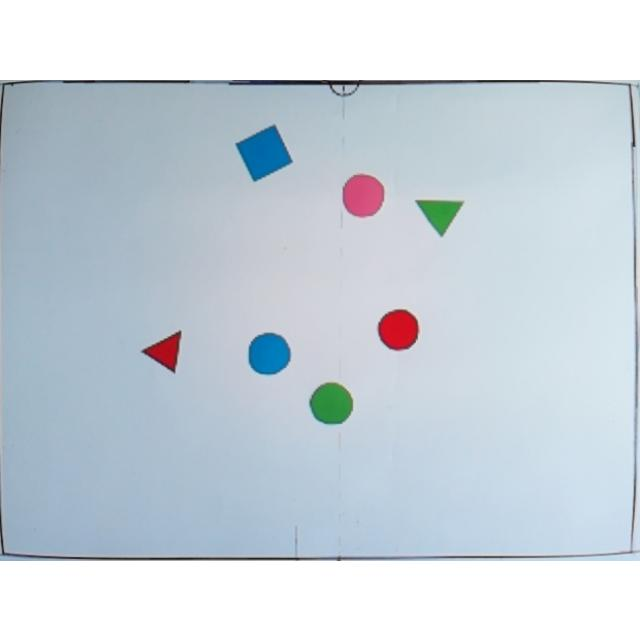blueCircle: (248, 331, 292, 375)
blueSquare: (234, 121, 294, 182)
greenCircle: (308, 380, 354, 424)
greenTriangle: (414, 198, 464, 236)
pinkCircle: (342, 173, 386, 217)
redCircle: (377, 307, 419, 349)
redTriangle: (141, 328, 189, 374)
